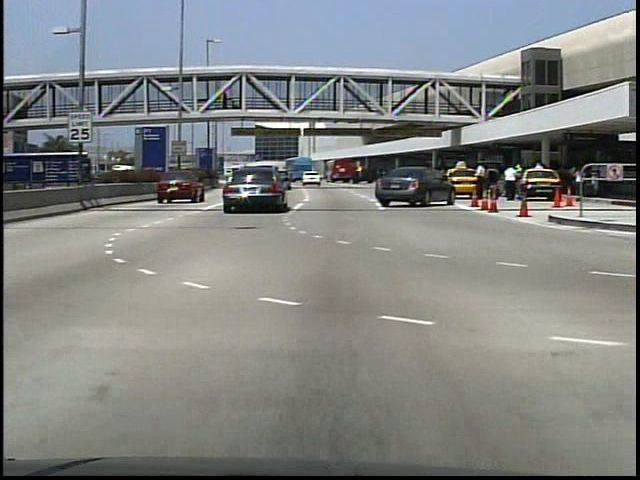person: (502, 162, 523, 203), (474, 164, 492, 205), (570, 167, 588, 204), (513, 163, 526, 202), (221, 92, 231, 113)
